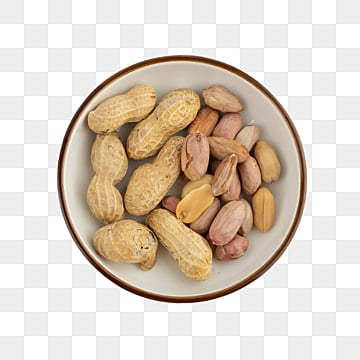kacang1: (84, 216, 161, 269)
kacang2: (118, 131, 195, 216), (123, 87, 205, 166), (144, 204, 224, 281), (68, 81, 169, 135), (80, 132, 131, 227)
